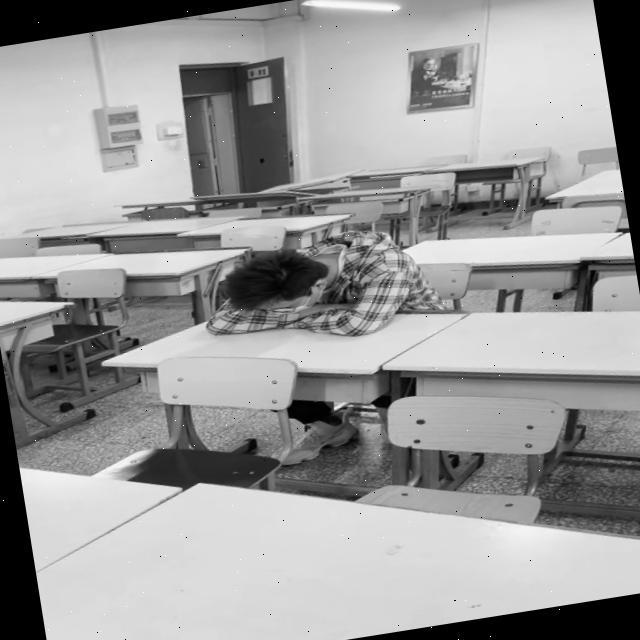sleep: (200, 232, 441, 351)
